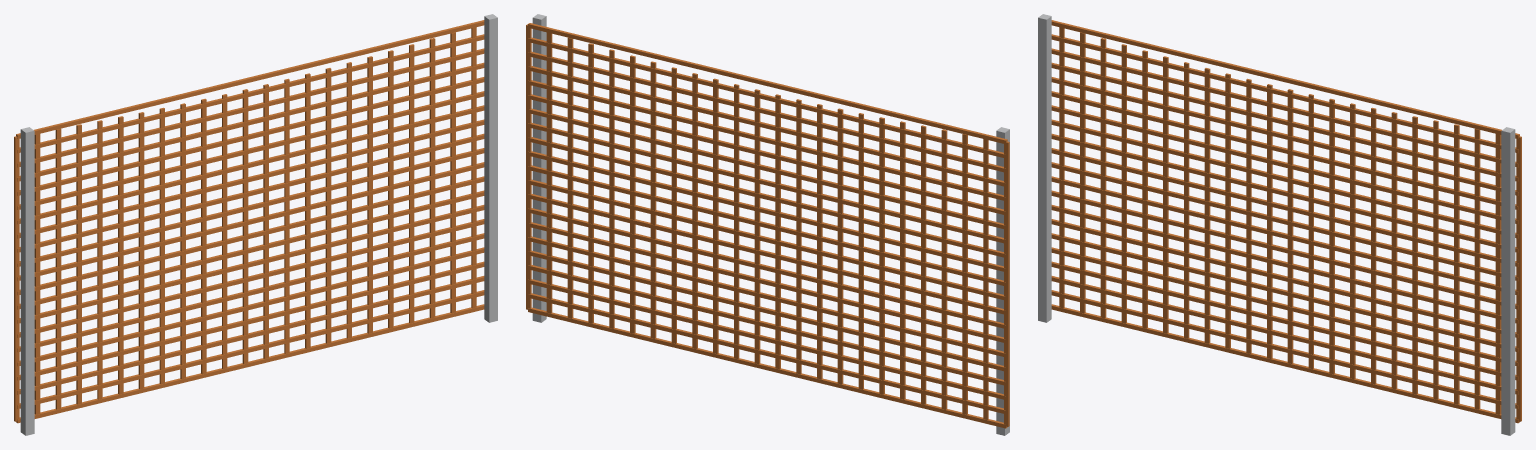
File: fp_fence.glb
The picture shows the model from 3 angles, left to right: view 1: azimuth 30°, elevation 25°; view 2: azimuth 150°, elevation 25°; view 3: azimuth 330°, elevation 25°; orthographic projection.
Visible parts, largest first — view 1: fp_fence; view 2: fp_fence; view 3: fp_fence.
Boxes of the visible parts, x1,y1,x2,y2 form: fp_fence: (14,14,497,435); fp_fence: (526,14,1009,435); fp_fence: (1038,14,1521,435).
Size of the model in its own units: 6.66 by 4 by 0.165.
